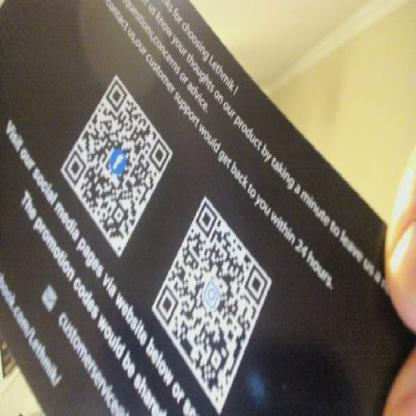qr: (148, 195, 276, 416), (55, 72, 180, 258)
